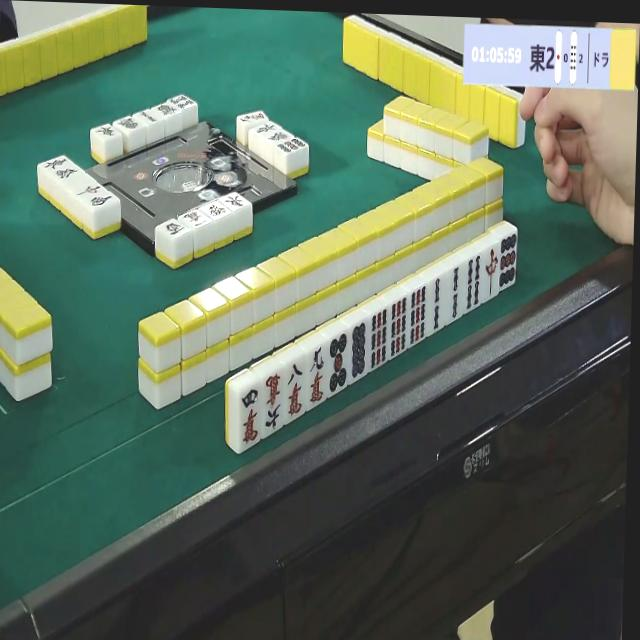east: (219, 193, 246, 214)
m4: (237, 385, 265, 452)
m6: (261, 370, 287, 435)
m8: (282, 359, 308, 422)
m9: (306, 344, 329, 408)
s2: (428, 274, 450, 334), (446, 265, 465, 326)
s4: (465, 255, 484, 315)
s9: (408, 284, 431, 348), (387, 295, 409, 360), (368, 309, 390, 371)
t5: (327, 333, 350, 396)
t8: (347, 320, 369, 381)
t9: (500, 231, 518, 295)
zhong: (483, 244, 499, 302)
